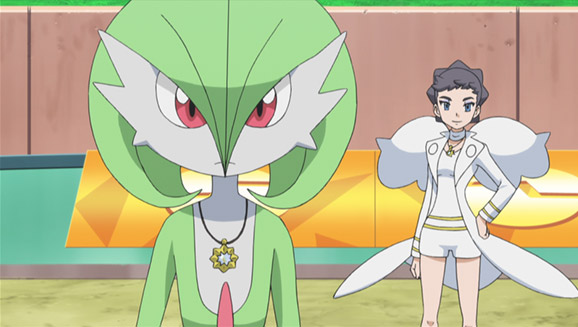gardevoir: (85, 1, 364, 326)
